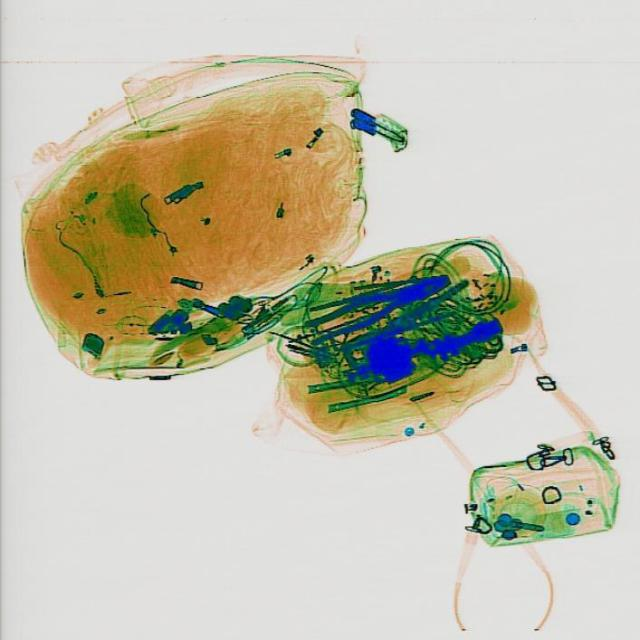Pliers: (301, 263, 454, 343)
